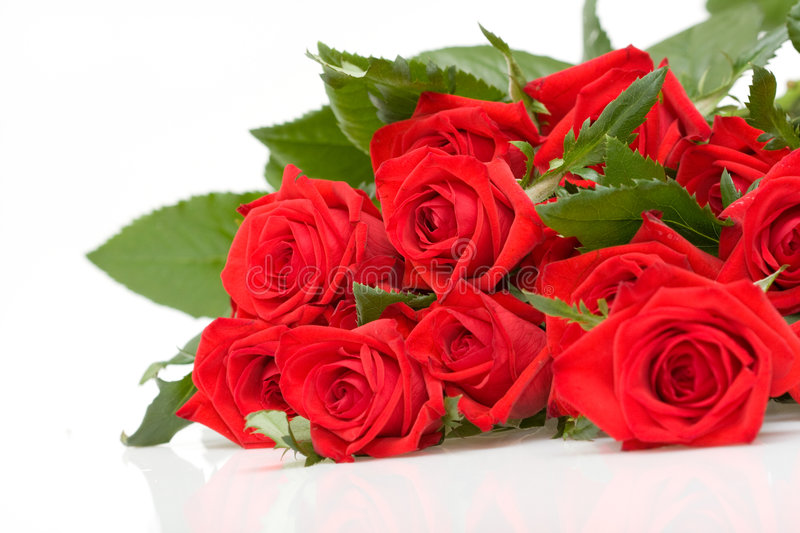RedRose: (581, 239, 765, 445), (366, 107, 532, 279), (207, 167, 383, 320), (554, 61, 716, 199), (396, 281, 554, 414), (316, 327, 450, 457), (181, 322, 316, 451), (742, 140, 800, 343)
